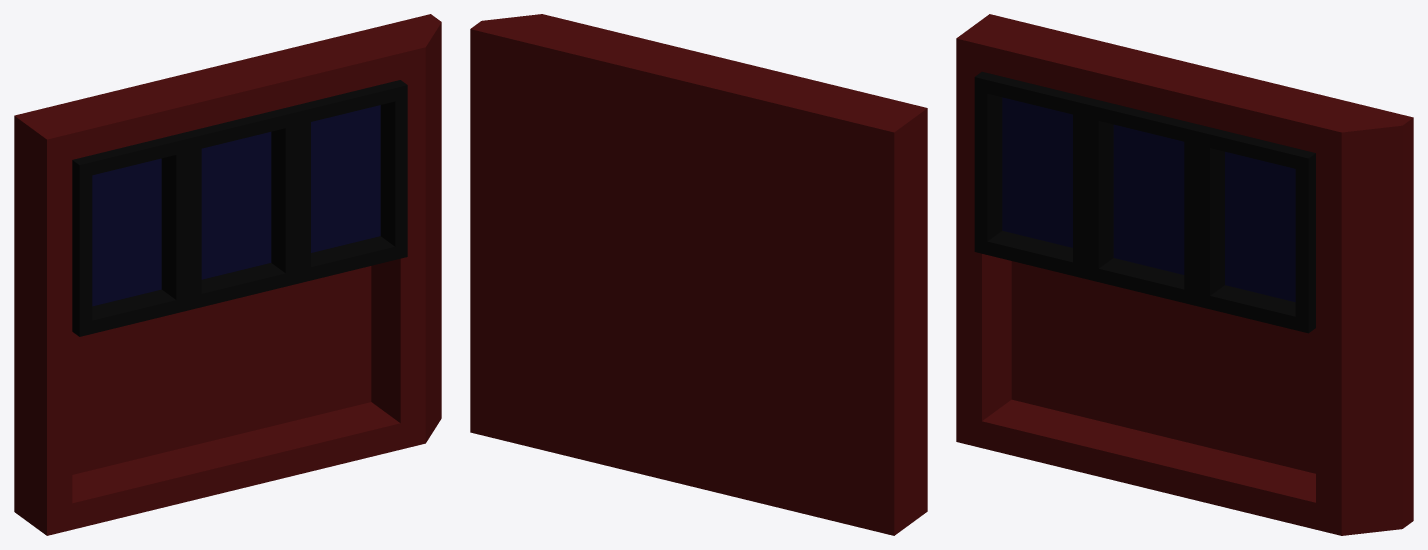
Rendered from Daly62_wall12.FBX.
The picture shows the model from 3 angles, left to right: view 1: azimuth 30°, elevation 25°; view 2: azimuth 150°, elevation 25°; view 3: azimuth 330°, elevation 25°; orthographic projection.
Parts seen in each view (by area): view 1: Daly6.2_wall1.2; view 2: Daly6.2_wall1.2; view 3: Daly6.2_wall1.2.
Part boxes in pixels (<box>): Daly6.2_wall1.2: <box>14,14,441,535</box>; Daly6.2_wall1.2: <box>470,14,927,535</box>; Daly6.2_wall1.2: <box>956,14,1413,535</box>.
Size of the model in its own units: 3300 by 3000 by 551.
